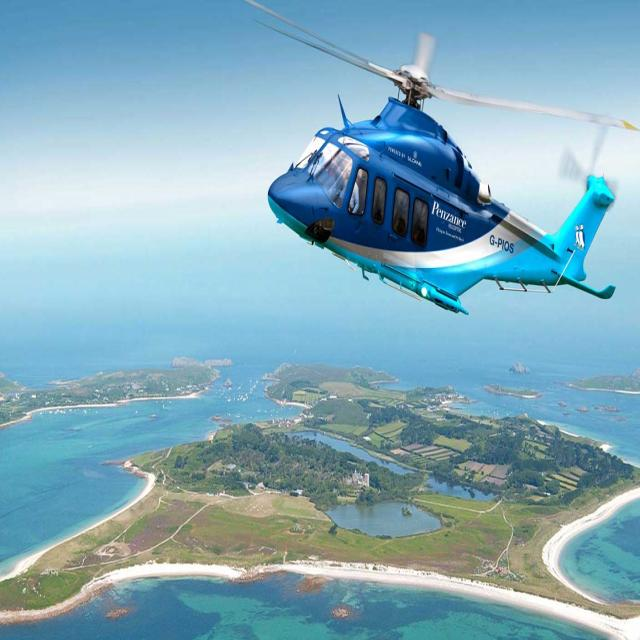helicopter: (257, 1, 640, 323)
